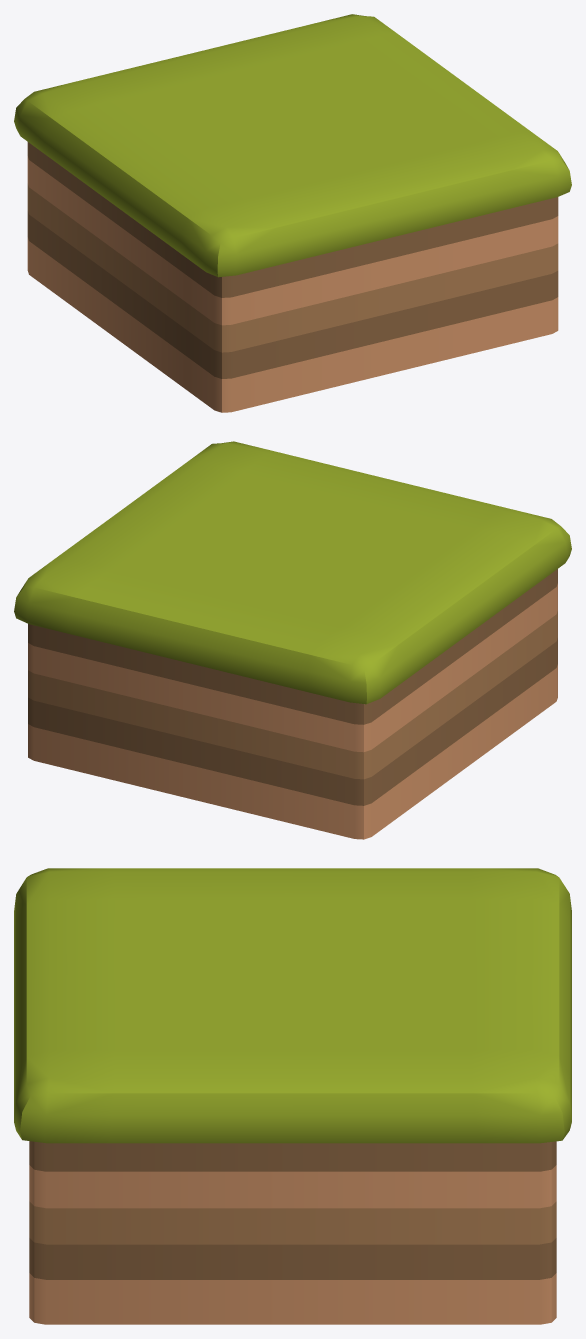
File: platform.glb
3 views of the same model, one above another, from view 1: azimuth 30°, elevation 25°; view 2: azimuth 150°, elevation 25°; view 3: azimuth 270°, elevation 25° (orthographic). The views are drawn at different scales.
Visible parts, largest first — view 1: Cube_Grass_Corner_Tall, Cube_Grass_Corner_Tall.001, Cube_Grass_Corner_Tall.003, Cube_Grass_Corner_Tall.002; view 2: Cube_Grass_Corner_Tall.003, Cube_Grass_Corner_Tall.002, Cube_Grass_Corner_Tall, Cube_Grass_Corner_Tall.001; view 3: Cube_Grass_Corner_Tall.001, Cube_Grass_Corner_Tall.002, Cube_Grass_Corner_Tall.003, Cube_Grass_Corner_Tall.
Boxes of the visible parts, x1,y1,x2,y2 form: Cube_Grass_Corner_Tall: [111, 122, 397, 412]; Cube_Grass_Corner_Tall.001: [293, 83, 571, 372]; Cube_Grass_Corner_Tall.003: [14, 53, 292, 342]; Cube_Grass_Corner_Tall.002: [194, 14, 465, 121]; Cube_Grass_Corner_Tall.003: [188, 549, 473, 839]; Cube_Grass_Corner_Tall.002: [14, 510, 292, 799]; Cube_Grass_Corner_Tall: [293, 480, 571, 768]; Cube_Grass_Corner_Tall.001: [121, 441, 392, 548]; Cube_Grass_Corner_Tall.001: [14, 975, 292, 1324]; Cube_Grass_Corner_Tall.002: [293, 975, 571, 1324]; Cube_Grass_Corner_Tall.003: [293, 868, 571, 1015]; Cube_Grass_Corner_Tall: [14, 868, 292, 1015].
Bounding box in the file's own units: 4.23 × 2 × 4.23.
